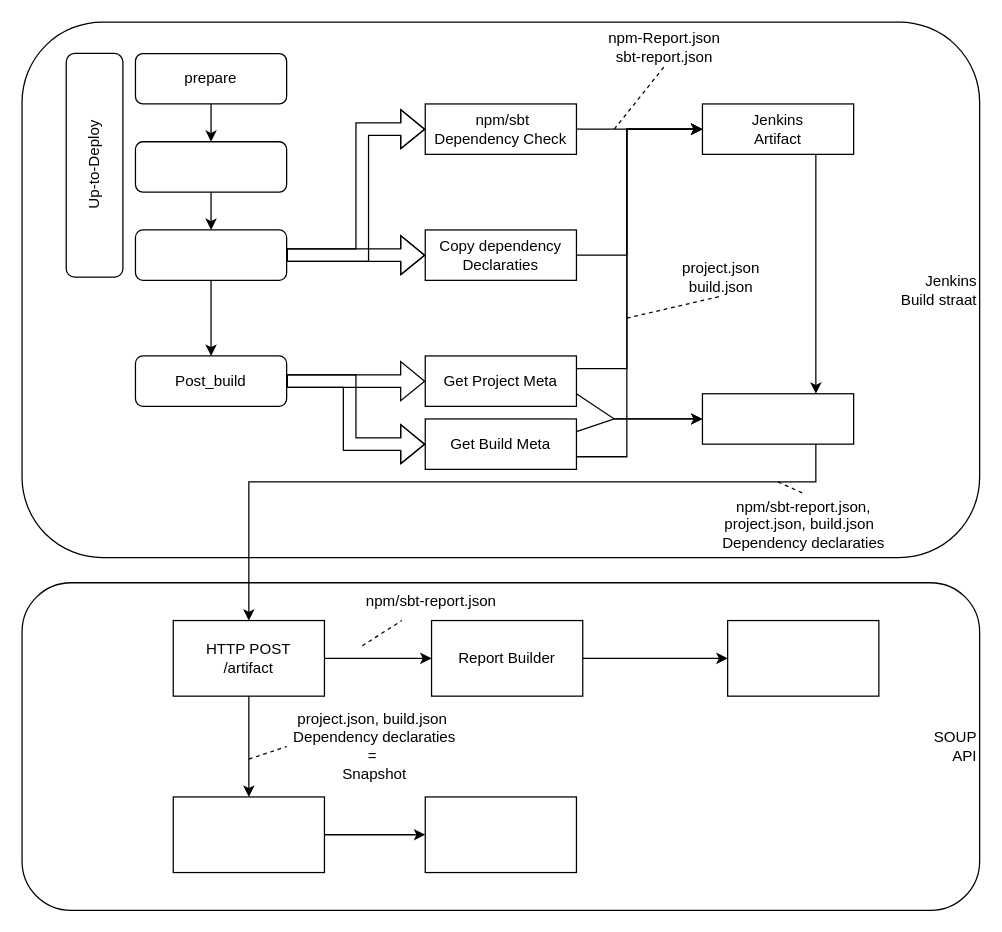
Image size: 1002x932. Some labels were removed from this diagram. The centre of each missing label's shape, as x and y in pixels:
"add Scan Job" goes at [248,834].
"buildtest" goes at [210,166].
"Database" goes at [802,657].
"Post Artifact" goes at [777,418].
"Scan Que" goes at [500,834].
"vulnerability_scan" goes at [210,254].
